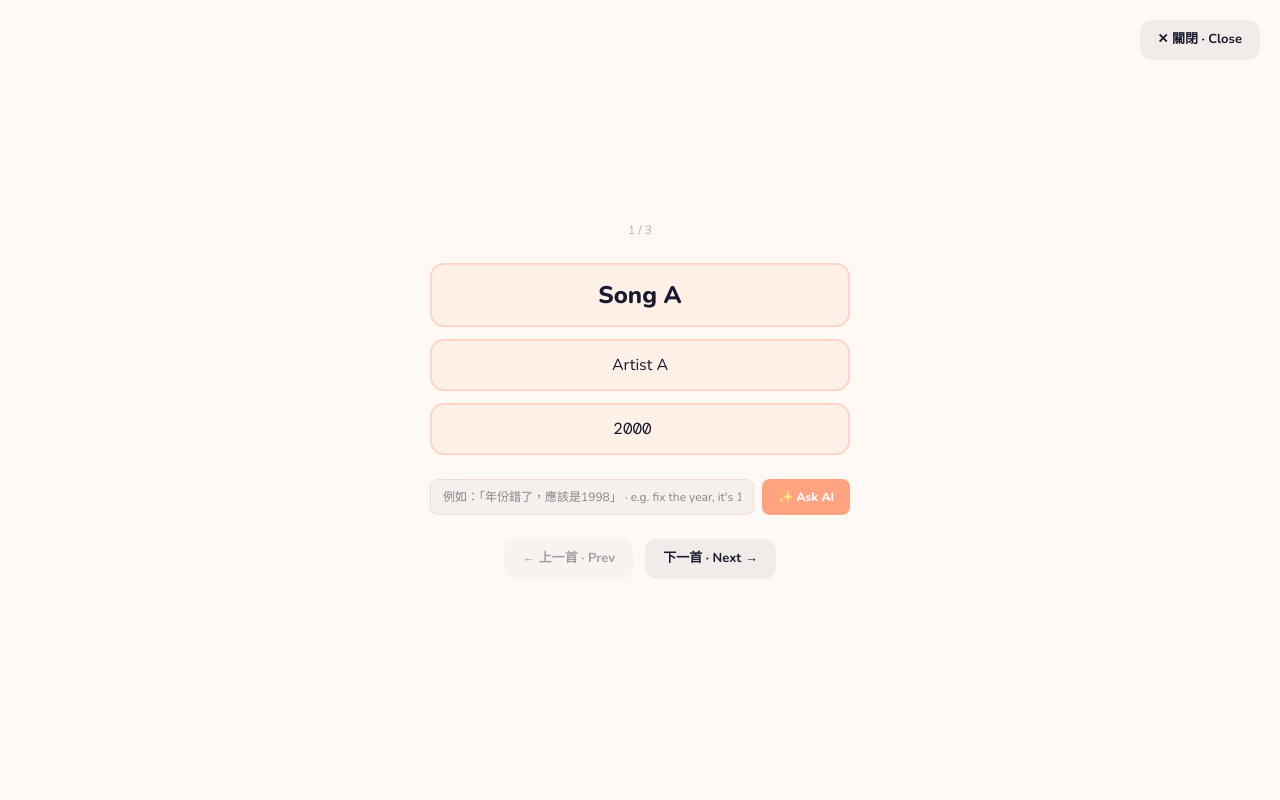
SongItemEditor (T4, docs/designs/full-page-focus-editor.md) › navigates prev/next without wraparound at the boundaries
Click the button "下一首 · Next →": [710, 559] box [645,539,776,579]
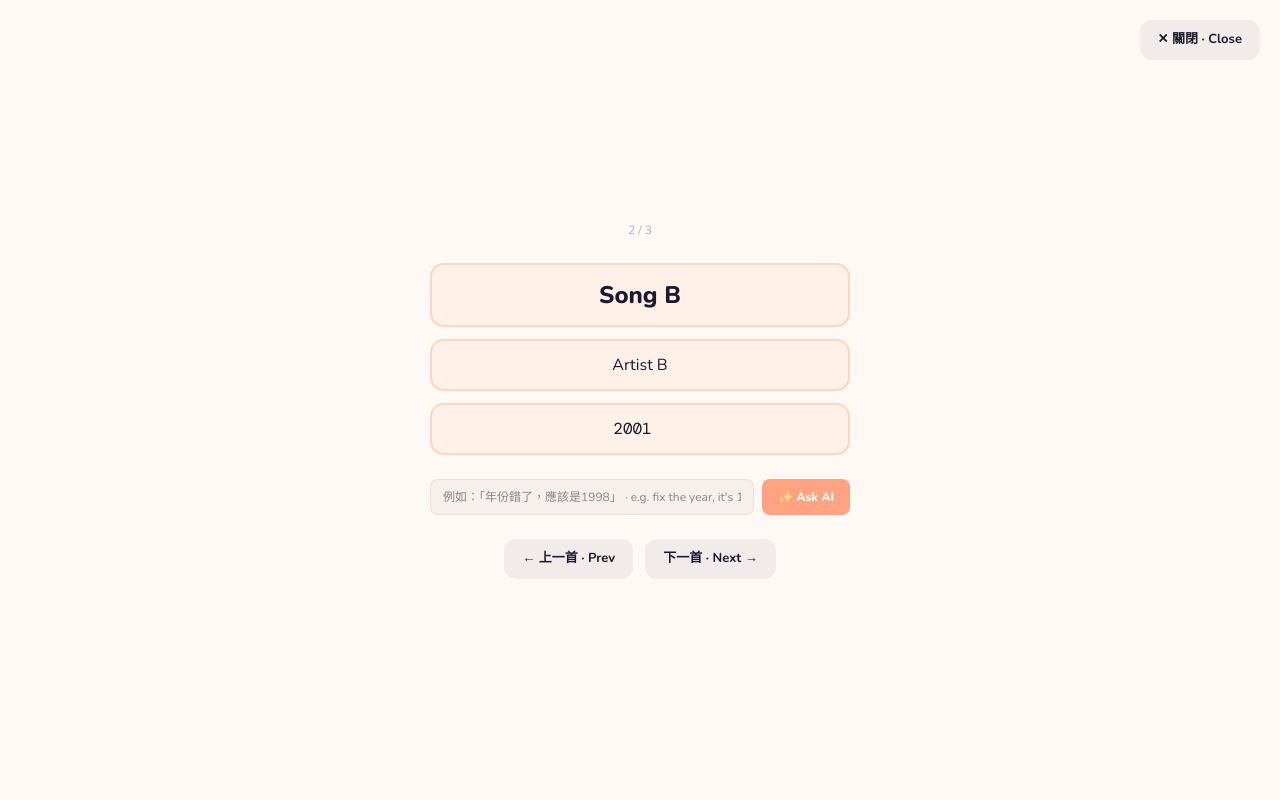
Click the button "下一首 · Next →": [710, 559] box [645,539,776,579]
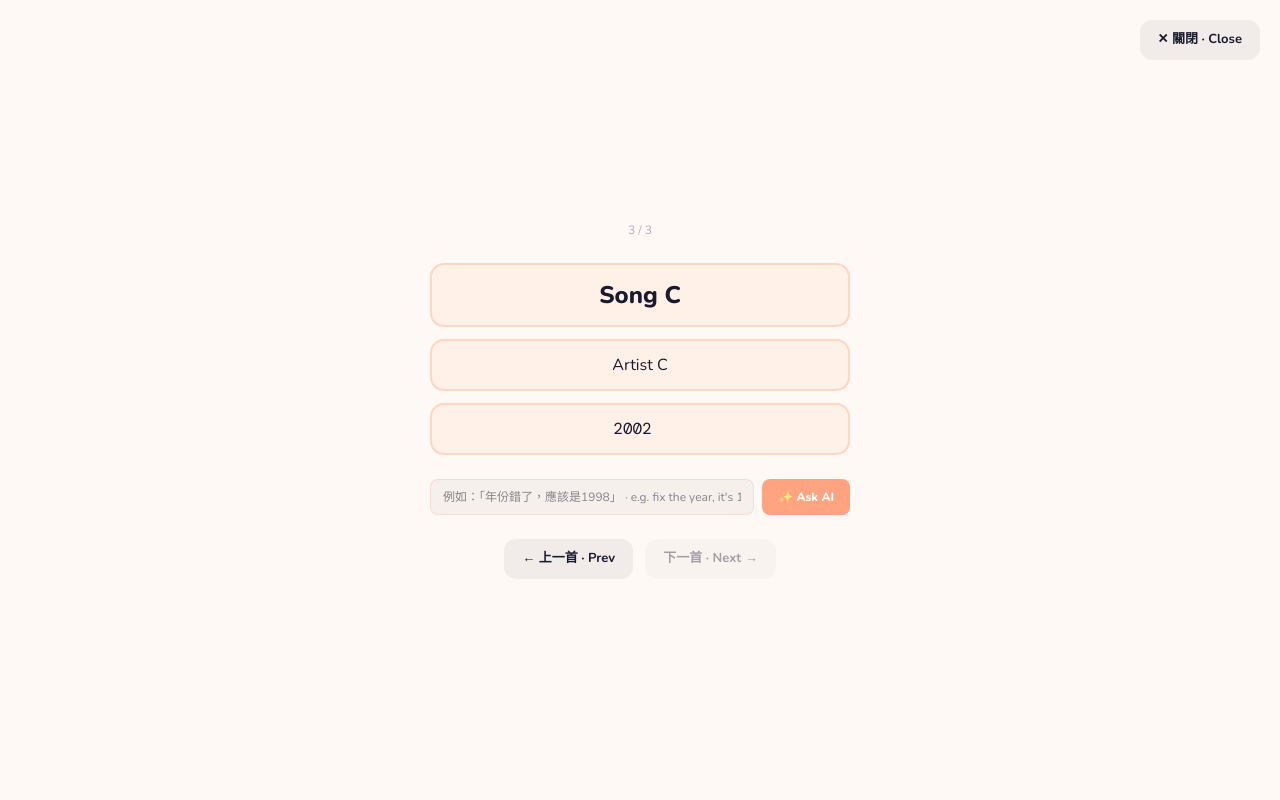
Result: the text "3 / 3" is shown at [628,221,652,239]
Result: the 1st field showing "Song C" is shown at [430,263,850,327]
Result: the button "下一首 · Next →" is disabled at [645,539,776,579]
Click the button "← 上一首 · Prev": [569, 559] box [504,539,633,579]
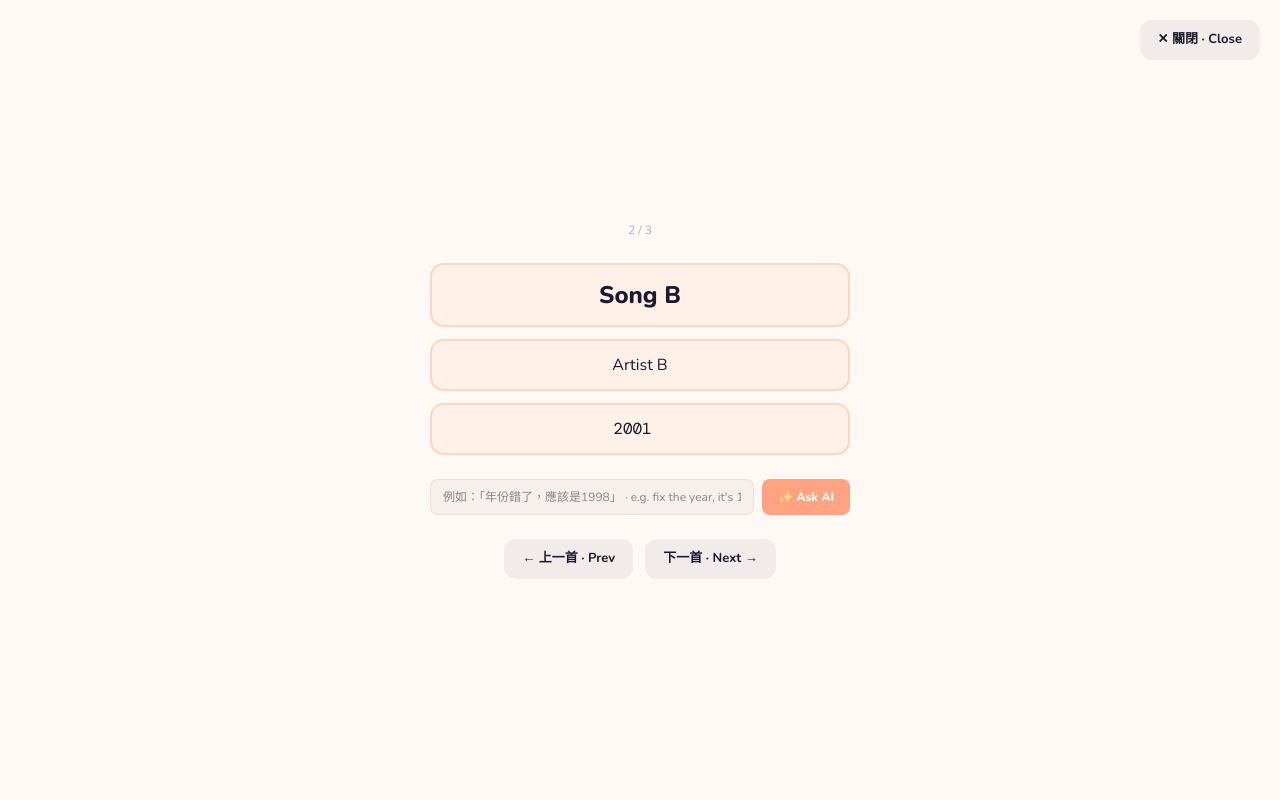
Click the button "← 上一首 · Prev": [569, 559] box [504,539,633,579]
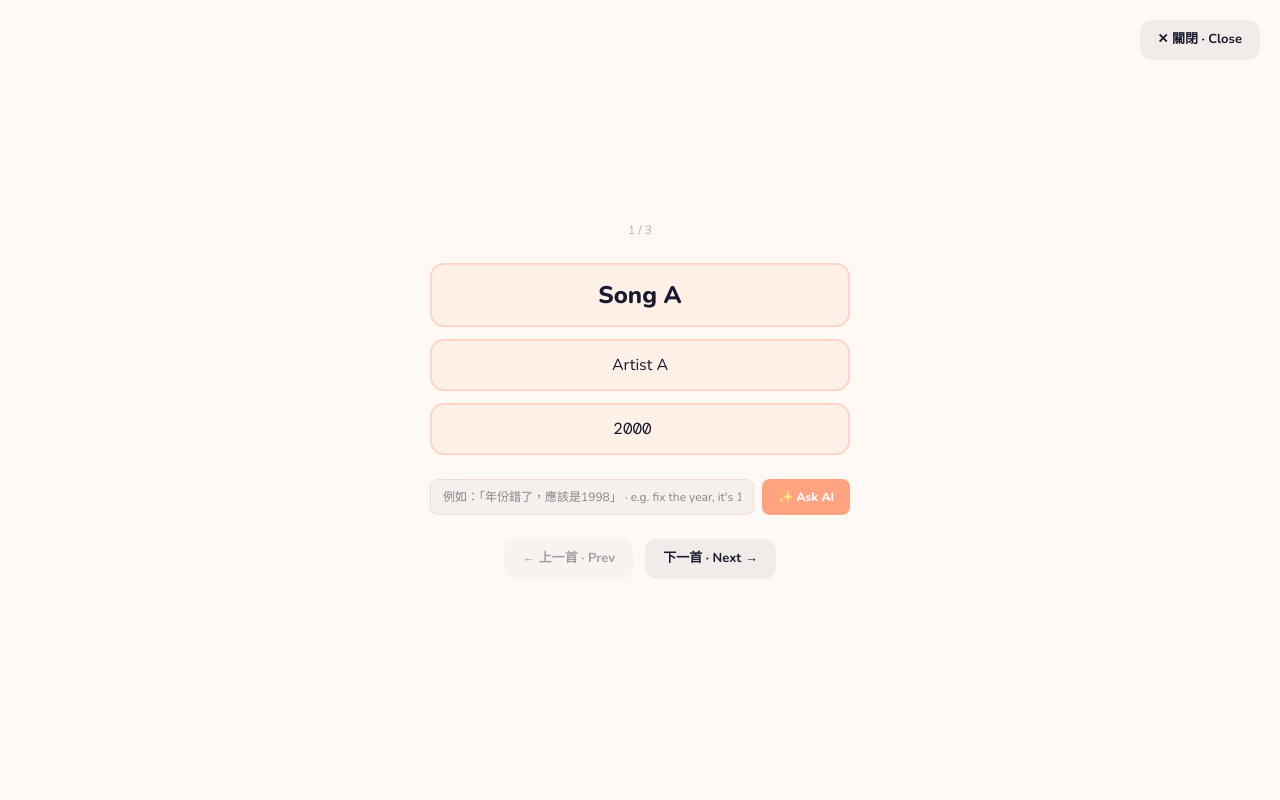
Result: the text "1 / 3" is shown at [628,221,652,239]
Result: the button "← 上一首 · Prev" is disabled at [504,539,633,579]
